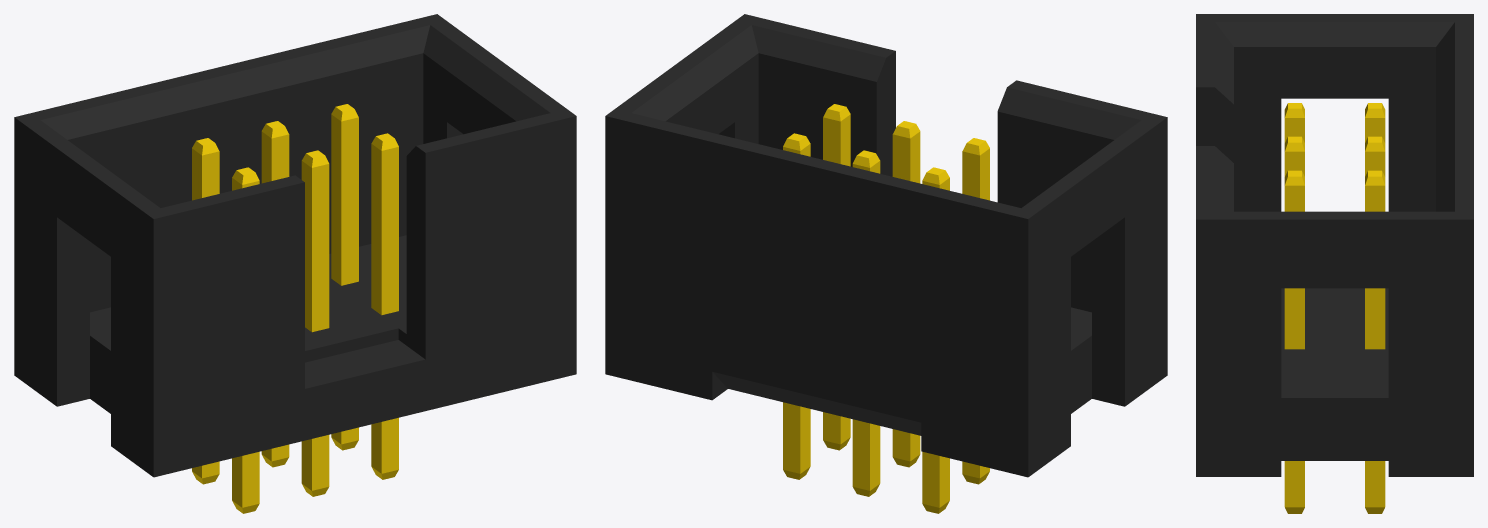
3 views of the same model, side by side, from view 1: azimuth 30°, elevation 25°; view 2: azimuth 150°, elevation 25°; view 3: azimuth 270°, elevation 25° (orthographic).
Visible parts, largest first — view 1: IDC (CONNFLY); view 2: IDC (CONNFLY); view 3: IDC (CONNFLY).
Part boxes in pixels (x1,y1,x2,y2): IDC (CONNFLY): (14,14,576,513); IDC (CONNFLY): (605,14,1167,513); IDC (CONNFLY): (1196,14,1473,513).
Bounding box in the file's own units: 0.0154 × 0.0126 × 0.0088.
